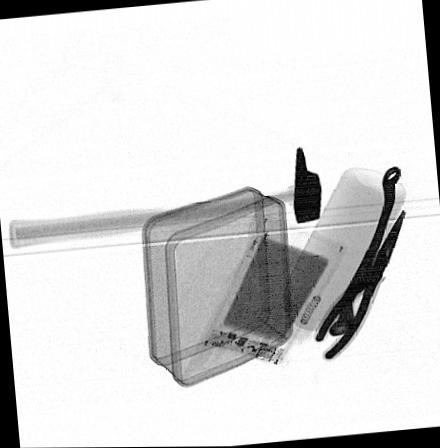Hammer: (9, 147, 320, 248)
Pliers: (311, 207, 406, 361)
Powerbank: (199, 213, 345, 367)
Wrench: (326, 166, 401, 336)
